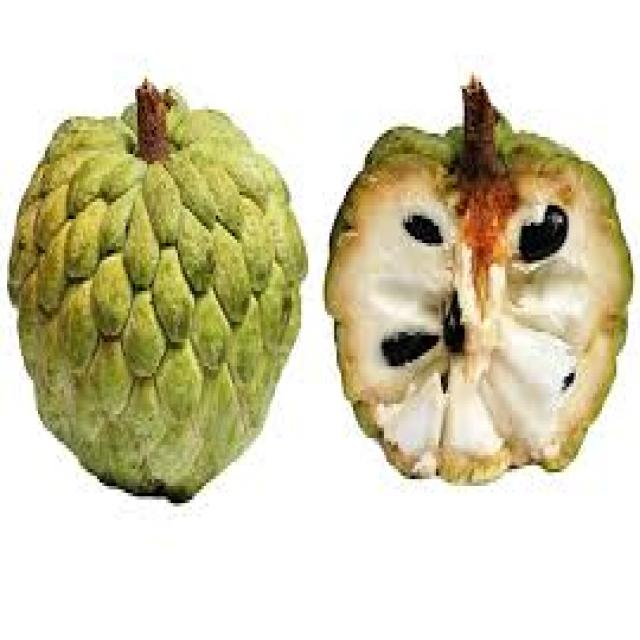organic waste: (5, 78, 303, 500), (325, 86, 628, 486)
